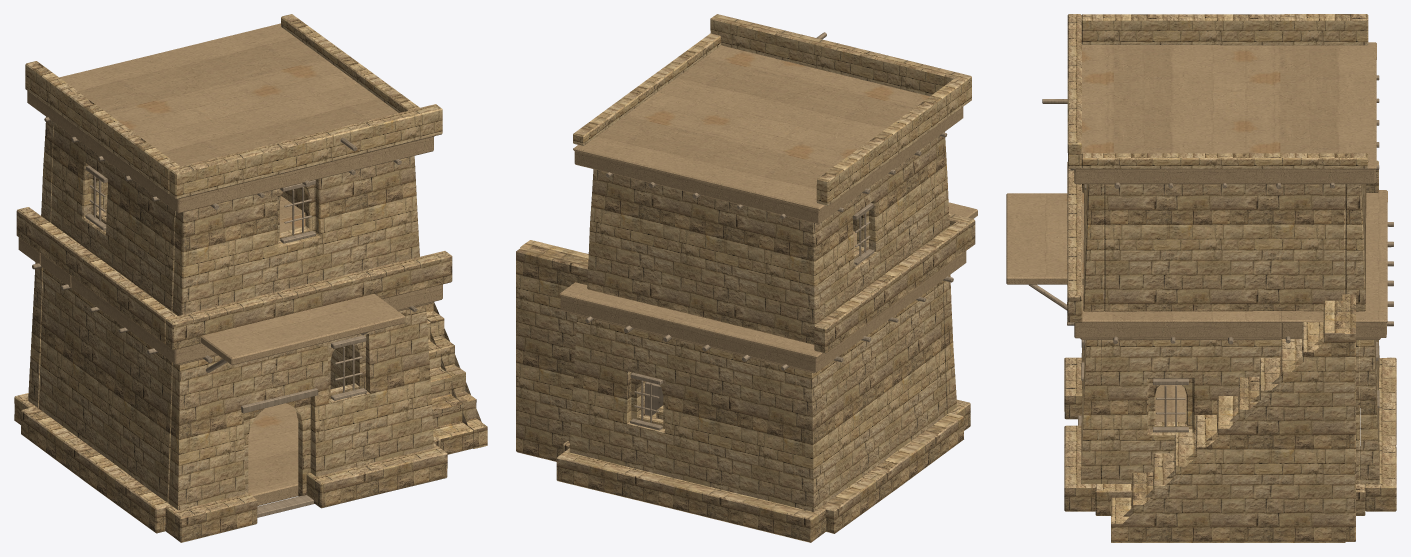
The picture shows the model from 3 angles, left to right: view 1: azimuth 30°, elevation 25°; view 2: azimuth 150°, elevation 25°; view 3: azimuth 270°, elevation 25°; orthographic projection. The views are drawn at different scales.
Visible parts, largest first — view 1: house; view 2: house; view 3: house.
Boxes of the visible parts, x1,y1,x2,y2 form: house: (14, 14, 487, 542); house: (516, 14, 977, 542); house: (1006, 14, 1396, 542).
Bounding box in the file's own units: 8.44 × 8.78 × 8.44.
3 materials, 3 textured.
